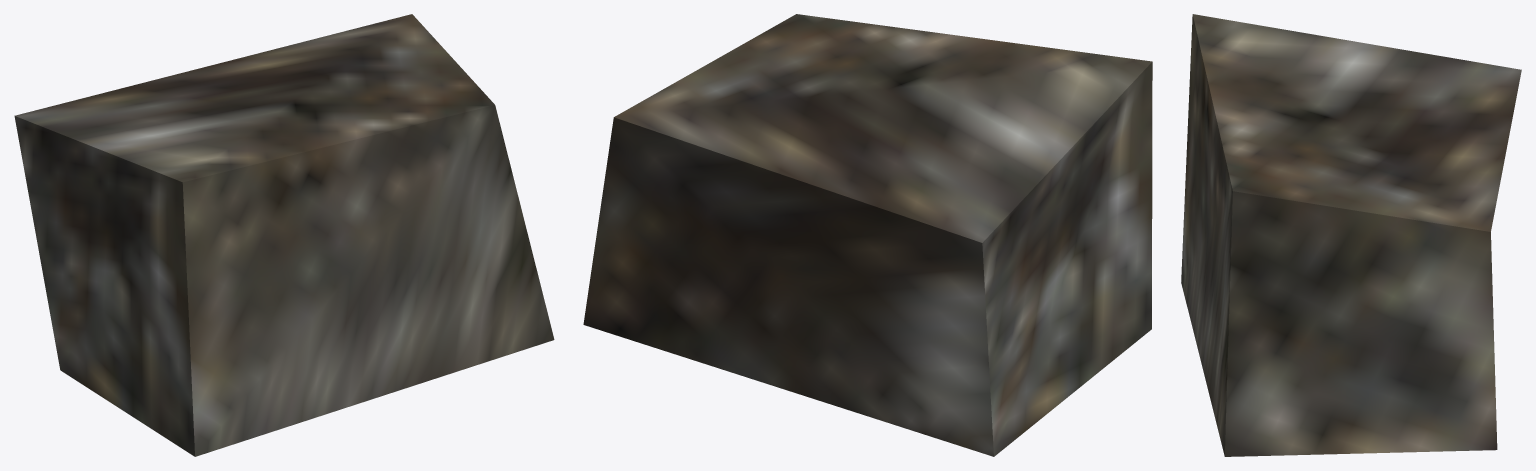
The model's file is Brick2E_LOD1.fbx.
The picture shows the model from 3 angles, left to right: view 1: azimuth 30°, elevation 25°; view 2: azimuth 150°, elevation 25°; view 3: azimuth 270°, elevation 25°; orthographic projection. The views are drawn at different scales.
Parts seen in each view (by area): view 1: polySurface63; view 2: polySurface63; view 3: polySurface63.
Boxes of the visible parts, x1,y1,x2,y2 form: polySurface63: (14, 14, 554, 456); polySurface63: (583, 14, 1152, 456); polySurface63: (1181, 14, 1521, 456).
Size of the model in its own units: 0.6541 by 0.4501 by 0.4832.
